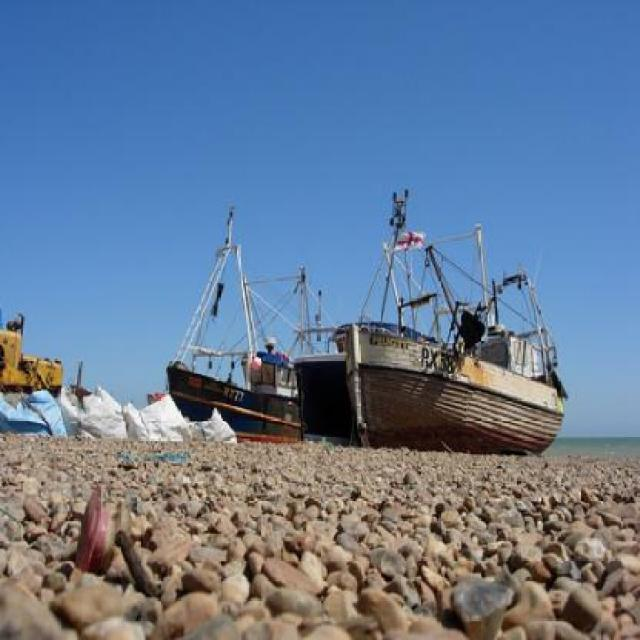ship: (329, 186, 566, 449), (292, 184, 534, 441), (344, 268, 564, 449), (164, 206, 324, 432)
